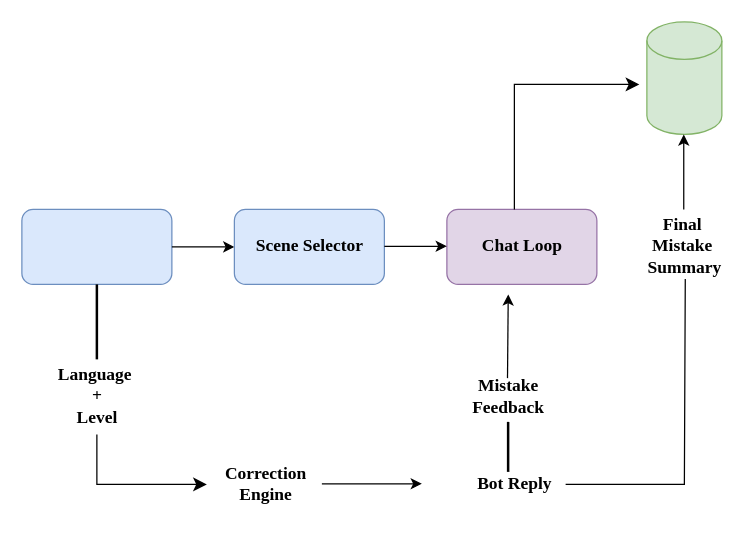
The diagram is 756 pixels wide and 538 high, and some of its shapes have lost their labels. Here are the shapes that lost their labels. From the top down, the centre of each, then its label:
the point at 684,77: SQLite Logger
the point at 96,246: User Input
